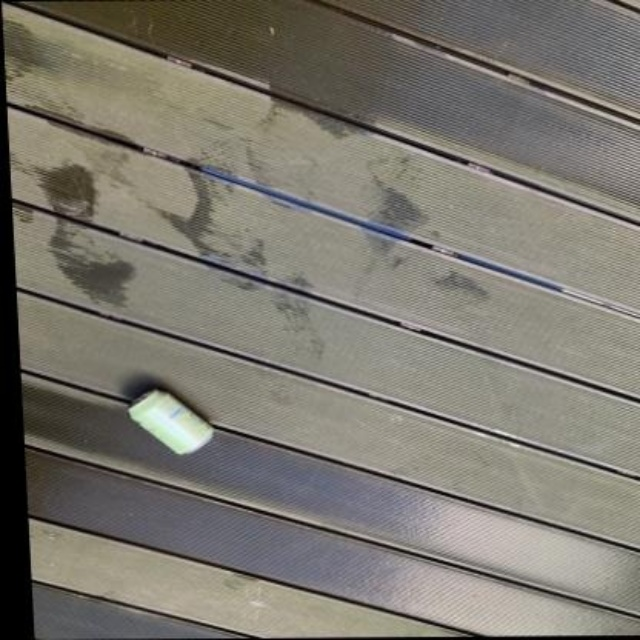trash: (128, 389, 212, 454)
